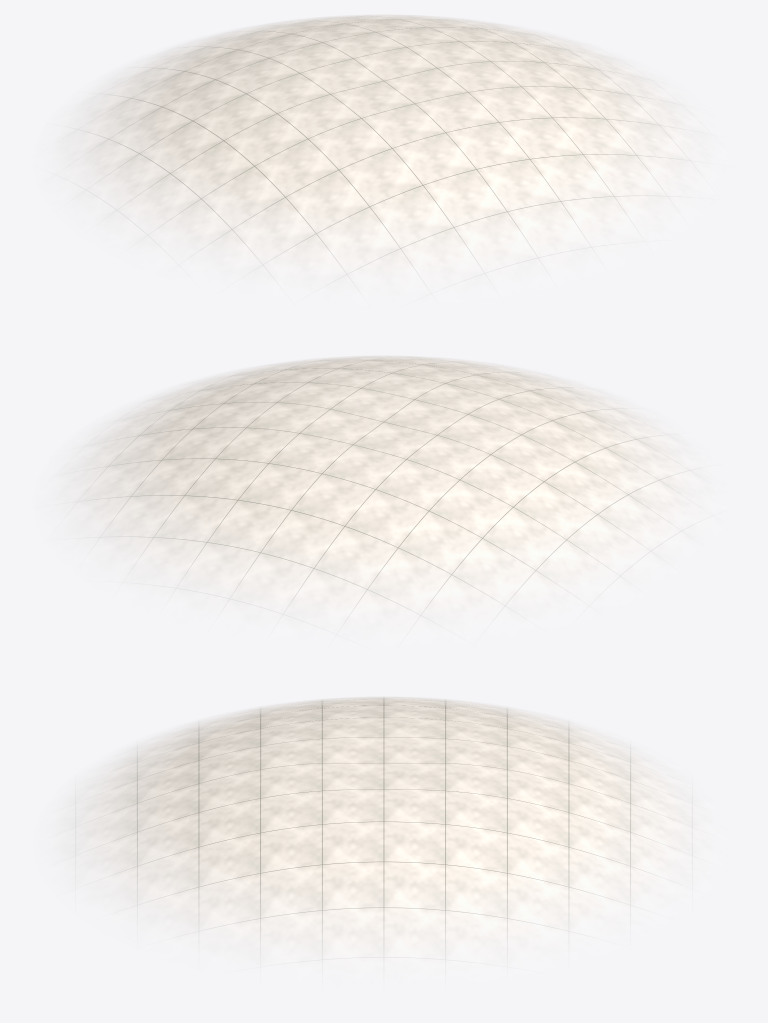
File: piso_moderno_concreto.glb
The picture shows the model from 3 angles, top to bottom: view 1: azimuth 30°, elevation 25°; view 2: azimuth 150°, elevation 25°; view 3: azimuth 270°, elevation 25°; orthographic projection.
Parts seen in each view (by area): view 1: piso_curvo; view 2: piso_curvo; view 3: piso_curvo.
Part boxes in pixels (left/top/right/bottom): piso_curvo: left=59, top=14, right=708, bottom=288; piso_curvo: left=59, top=355, right=708, bottom=629; piso_curvo: left=59, top=696, right=708, bottom=970.
Size of the model in its own units: 120 by 16 by 120.
Materials: 1 (1 with a texture image).
